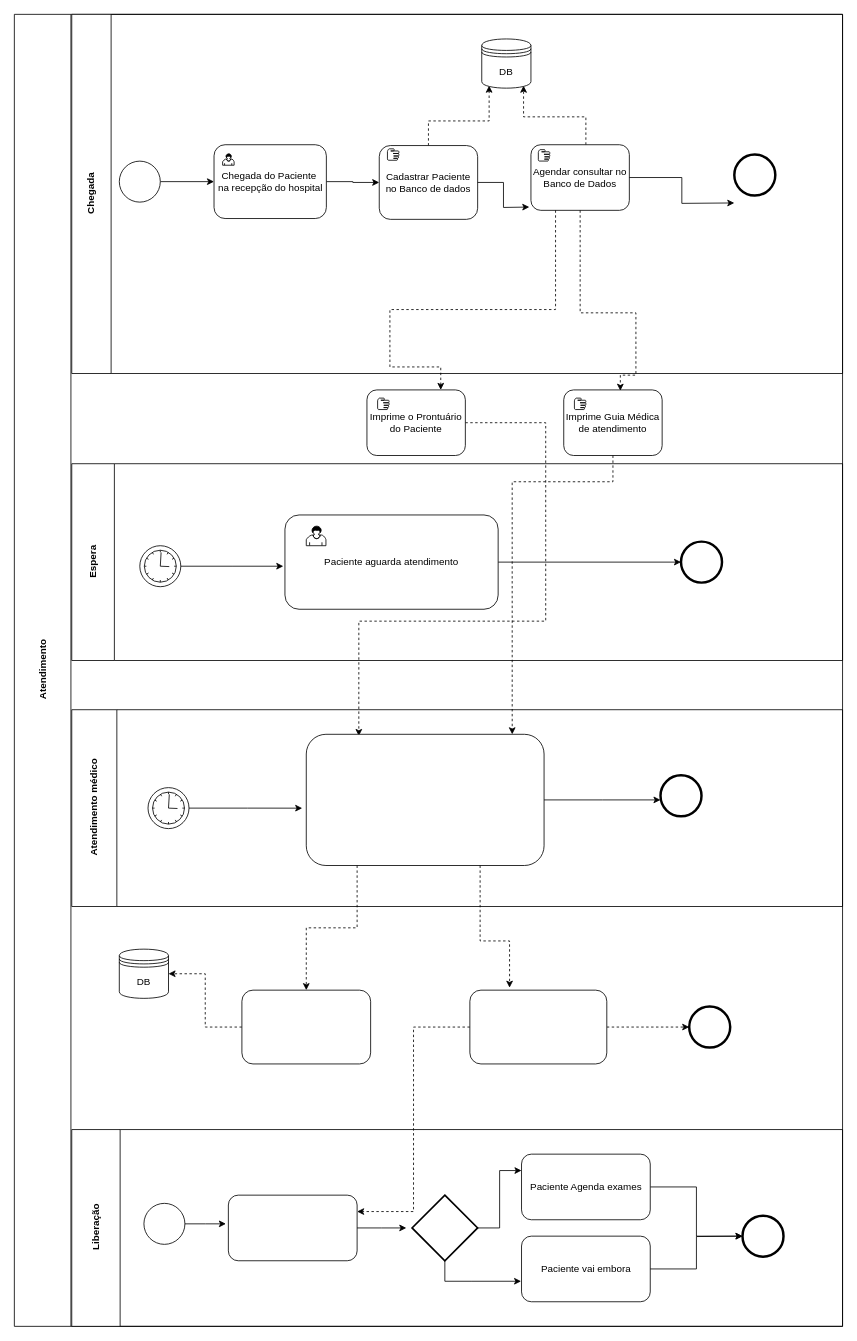
Image size: 857x1341. Some labels were removed from this diagram. Here are the shapes that lost their labels. From the top down, the centre of each, then its label:
At point 424,799: "Médico realiza consulta".
At point 306,1026: "Médico atualiza o prontuário do paciente".
At point 538,1026: "Entrega para o paciente guia de exames".
At point 292,1227: "Paciente é liberado pelo médico".
